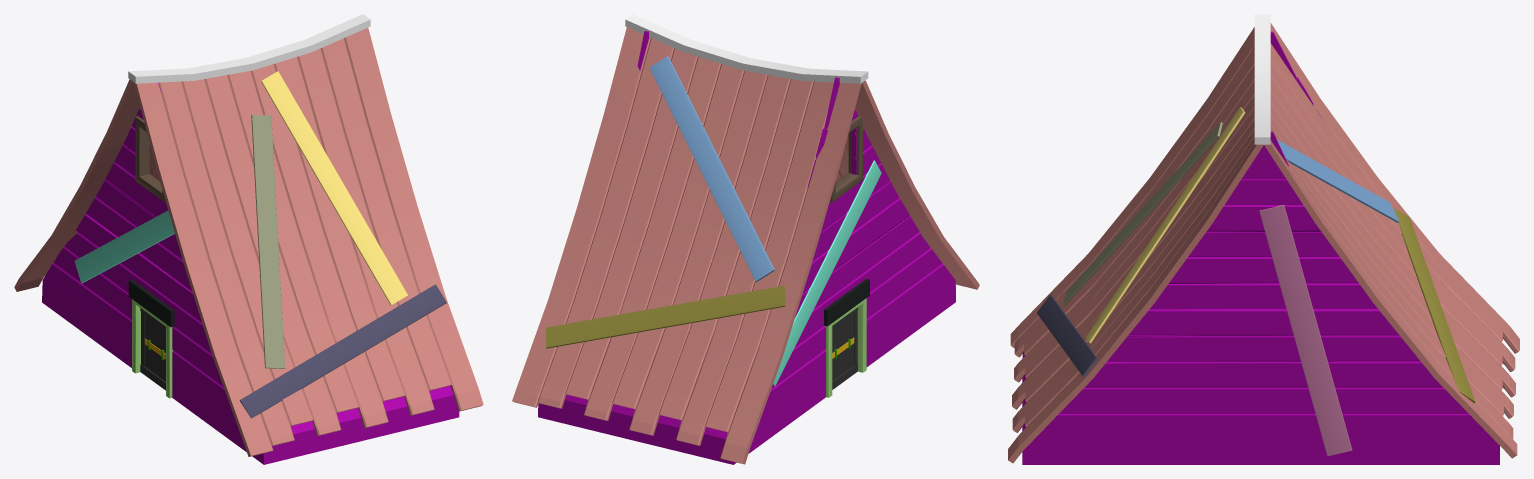
The model's file is Wooden house.fbx.
3 renders of one model, left to right at view 1: azimuth 30°, elevation 25°; view 2: azimuth 150°, elevation 25°; view 3: azimuth 270°, elevation 25°, orthographic. The views are drawn at different scales.
Parts seen in each view (by area): view 1: Rectangle007, Rectangle003, Box013, Box011, Box012, Box004, Box014, Box005, Rectangle004, Rectangle005, Box003; view 2: Rectangle007, Rectangle003, Box009, Box010, Box004, Box014, Box005, Rectangle004, Rectangle005, Box003; view 3: Rectangle003, Rectangle007, Box015, Box010, Box013, Box004, Box011, Box009, Box012.
Part boxes in pixels (x1,y1,x2,y2): Rectangle007: [14, 27, 483, 456]; Rectangle003: [42, 83, 459, 464]; Box013: [261, 71, 407, 305]; Box011: [251, 115, 285, 368]; Box012: [239, 284, 446, 418]; Box004: [128, 14, 370, 83]; Box014: [74, 211, 174, 283]; Box005: [140, 308, 165, 390]; Rectangle004: [132, 299, 173, 398]; Rectangle005: [135, 116, 166, 203]; Box003: [128, 279, 174, 327]; Rectangle007: [512, 27, 979, 464]; Rectangle003: [538, 30, 955, 464]; Box009: [649, 56, 774, 281]; Box010: [546, 285, 785, 348]; Box004: [625, 14, 868, 83]; Box014: [773, 160, 881, 386]; Box005: [832, 307, 857, 389]; Rectangle004: [825, 298, 866, 397]; Rectangle005: [829, 116, 862, 202]; Box003: [824, 278, 869, 326]; Rectangle003: [1022, 31, 1499, 464]; Rectangle007: [1008, 23, 1519, 463]; Box015: [1259, 204, 1352, 456]; Box010: [1394, 207, 1475, 403]; Box013: [1085, 107, 1245, 343]; Box004: [1254, 14, 1270, 144]; Box011: [1063, 122, 1222, 306]; Box009: [1277, 139, 1399, 222]; Box012: [1037, 294, 1097, 376].
Bounding box in the file's own units: 403 × 515 × 707.
